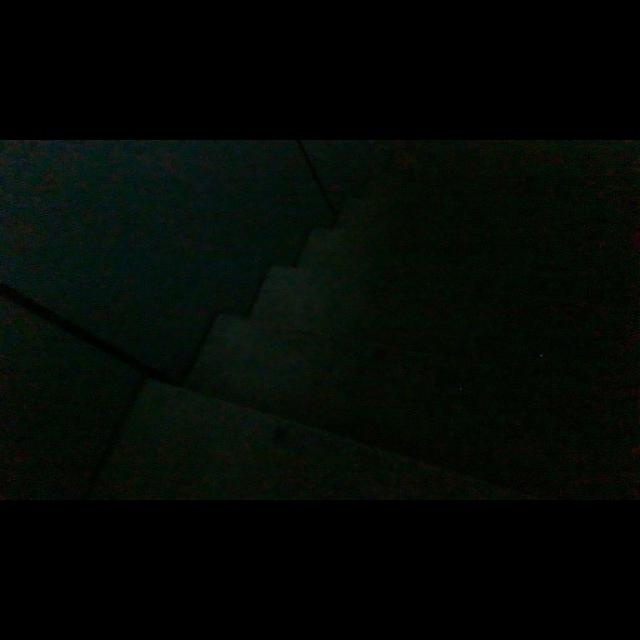stair: (164, 148, 640, 477)
